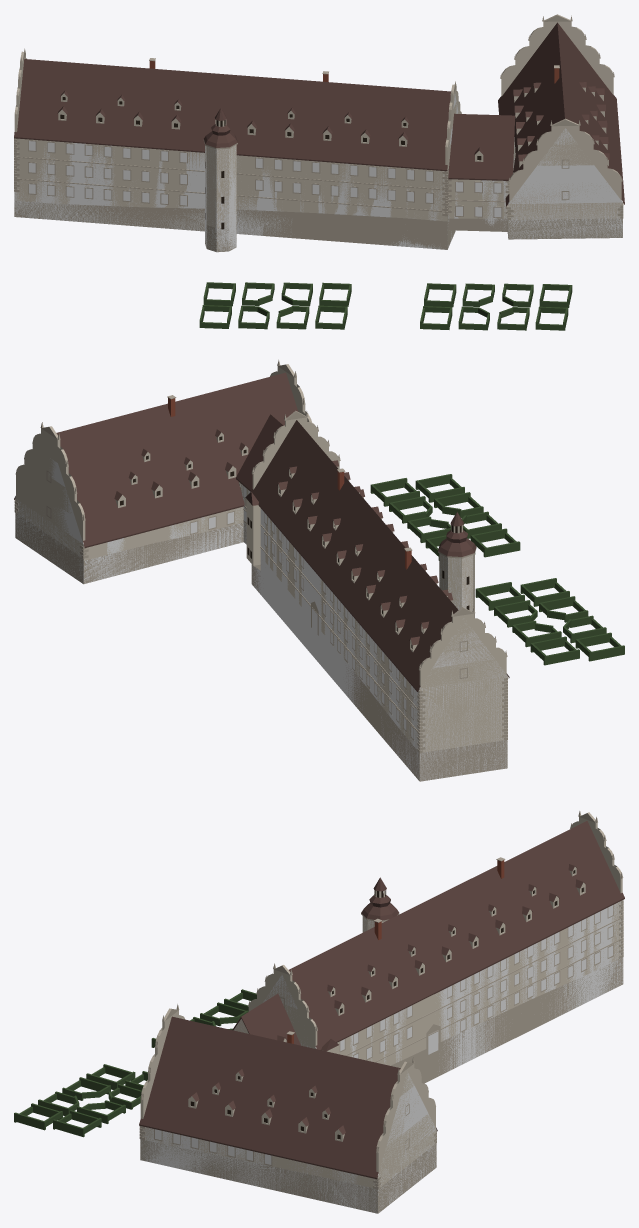
Rendered from schloss.glb.
The picture shows the model from 3 angles, top to bottom: view 1: azimuth 30°, elevation 25°; view 2: azimuth 150°, elevation 25°; view 3: azimuth 270°, elevation 25°; orthographic projection. The views are drawn at different scales.
Parts seen in each view (by area): view 1: schloss, COL_HULL_hauptbau, COL_HULL_ostfluegel, COL_HULL_tower, COL_HULL_verbindung; view 2: schloss, COL_HULL_hauptbau, COL_HULL_ostfluegel, COL_HULL_tower; view 3: schloss, COL_HULL_hauptbau, COL_HULL_ostfluegel.
Part boxes in pixels (x1=…): schloss: x1=14, y1=14, x2=624, y2=330; COL_HULL_hauptbau: x1=14, y1=94, x2=458, y2=249; COL_HULL_ostfluegel: x1=508, y1=128, x2=622, y2=239; COL_HULL_tower: x1=205, y1=145, x2=236, y2=252; COL_HULL_verbindung: x1=448, y1=137, x2=515, y2=231; schloss: x1=14, y1=359, x2=624, y2=781; COL_HULL_hauptbau: x1=252, y1=508, x2=507, y2=780; COL_HULL_ostfluegel: x1=15, y1=458, x2=243, y2=583; COL_HULL_tower: x1=439, y1=555, x2=474, y2=610; schloss: x1=14, y1=811, x2=624, y2=1213; COL_HULL_hauptbau: x1=263, y1=900, x2=623, y2=1074; COL_HULL_ostfluegel: x1=140, y1=1073, x2=436, y2=1213.
Size of the model in its own units: 103 by 30.94 by 97.08.
